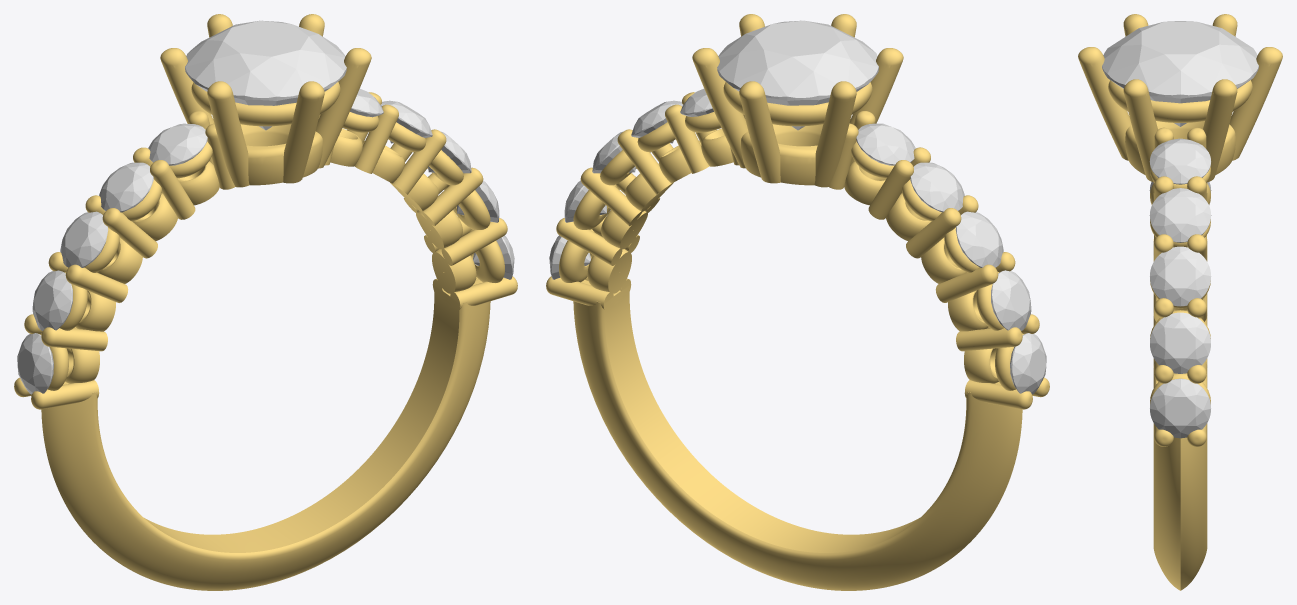
File: diamond-round-yellowgold-6prong-knifeedge-11stone.glb
3 renders of one model, left to right at view 1: azimuth 30°, elevation 25°; view 2: azimuth 150°, elevation 25°; view 3: azimuth 270°, elevation 25°, orthographic. The views are drawn at different scales.
Parts seen in each view (by area): view 1: metal, stone, side.002, side.001, side.003, side, side.004, side.006; view 2: metal, stone, side.002, side.001, side.003, side, side.004, side.006; view 3: metal, stone, side.008, side.007, side.009, side.006, side.005.
Boxes of the visible parts, bbox=[...] form: metal: bbox=[14, 14, 517, 590]; stone: bbox=[185, 20, 346, 130]; side.002: bbox=[60, 211, 108, 267]; side.001: bbox=[99, 162, 153, 212]; side.003: bbox=[32, 270, 72, 330]; side: bbox=[148, 123, 207, 165]; side.004: bbox=[17, 333, 53, 394]; side.006: bbox=[381, 100, 432, 143]; metal: bbox=[546, 14, 1049, 590]; stone: bbox=[717, 20, 878, 130]; side.002: bbox=[955, 211, 1003, 267]; side.001: bbox=[910, 162, 964, 212]; side.003: bbox=[991, 270, 1031, 330]; side: bbox=[856, 123, 915, 165]; side.004: bbox=[1010, 333, 1046, 394]; side.006: bbox=[631, 100, 682, 143]; metal: bbox=[1078, 14, 1282, 590]; stone: bbox=[1102, 21, 1258, 126]; side.008: bbox=[1150, 312, 1210, 373]; side.007: bbox=[1150, 246, 1210, 306]; side.009: bbox=[1150, 378, 1210, 438]; side.006: bbox=[1149, 188, 1211, 242]; side.005: bbox=[1149, 138, 1211, 184].
Size of the model in its own units: 22.09 by 23.81 by 8.35.
